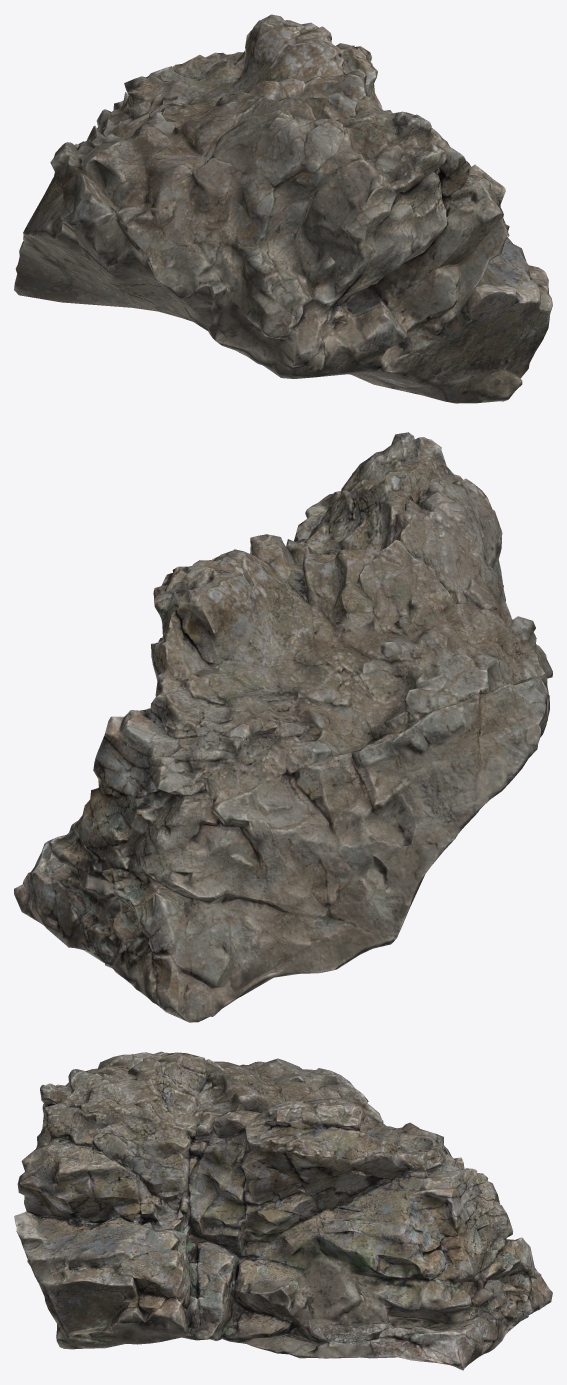
The model's file is boulder_01.glb.
3 views of the same model, one above another, from view 1: azimuth 30°, elevation 25°; view 2: azimuth 150°, elevation 25°; view 3: azimuth 270°, elevation 25° (orthographic). The views are drawn at different scales.
Parts seen in each view (by area): view 1: boulder_01_LOD0; view 2: boulder_01_LOD0; view 3: boulder_01_LOD0.
Part boxes in pixels (left/top/right/bottom): boulder_01_LOD0: left=14, top=14, right=552, bottom=403; boulder_01_LOD0: left=14, top=432, right=552, bottom=1022; boulder_01_LOD0: left=14, top=1051, right=552, bottom=1370.
Size of what is drawn, in the model's own units: 2.54 by 2 by 3.66.
1 material, 1 textured.
